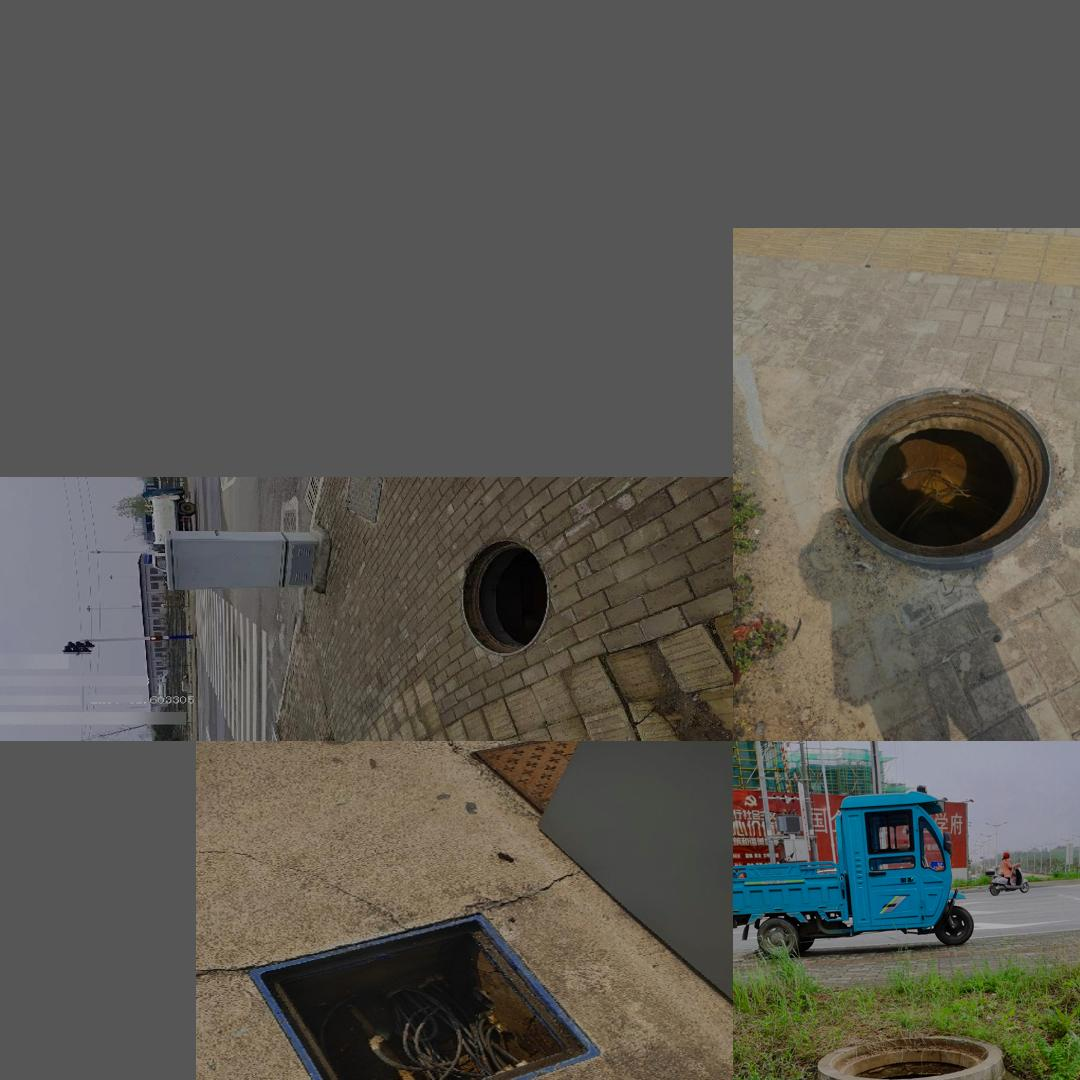lose: (245, 913, 599, 1080), (814, 375, 1062, 565), (461, 540, 550, 656), (820, 1030, 1004, 1080)
